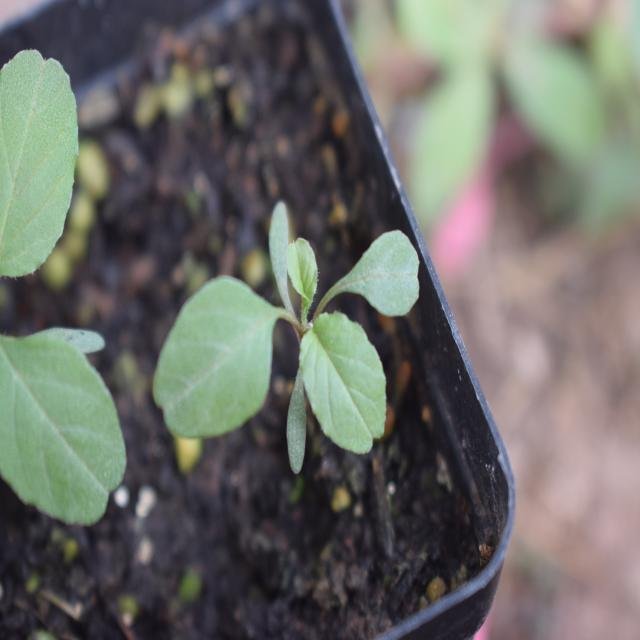pigweed: (161, 203, 423, 475)
